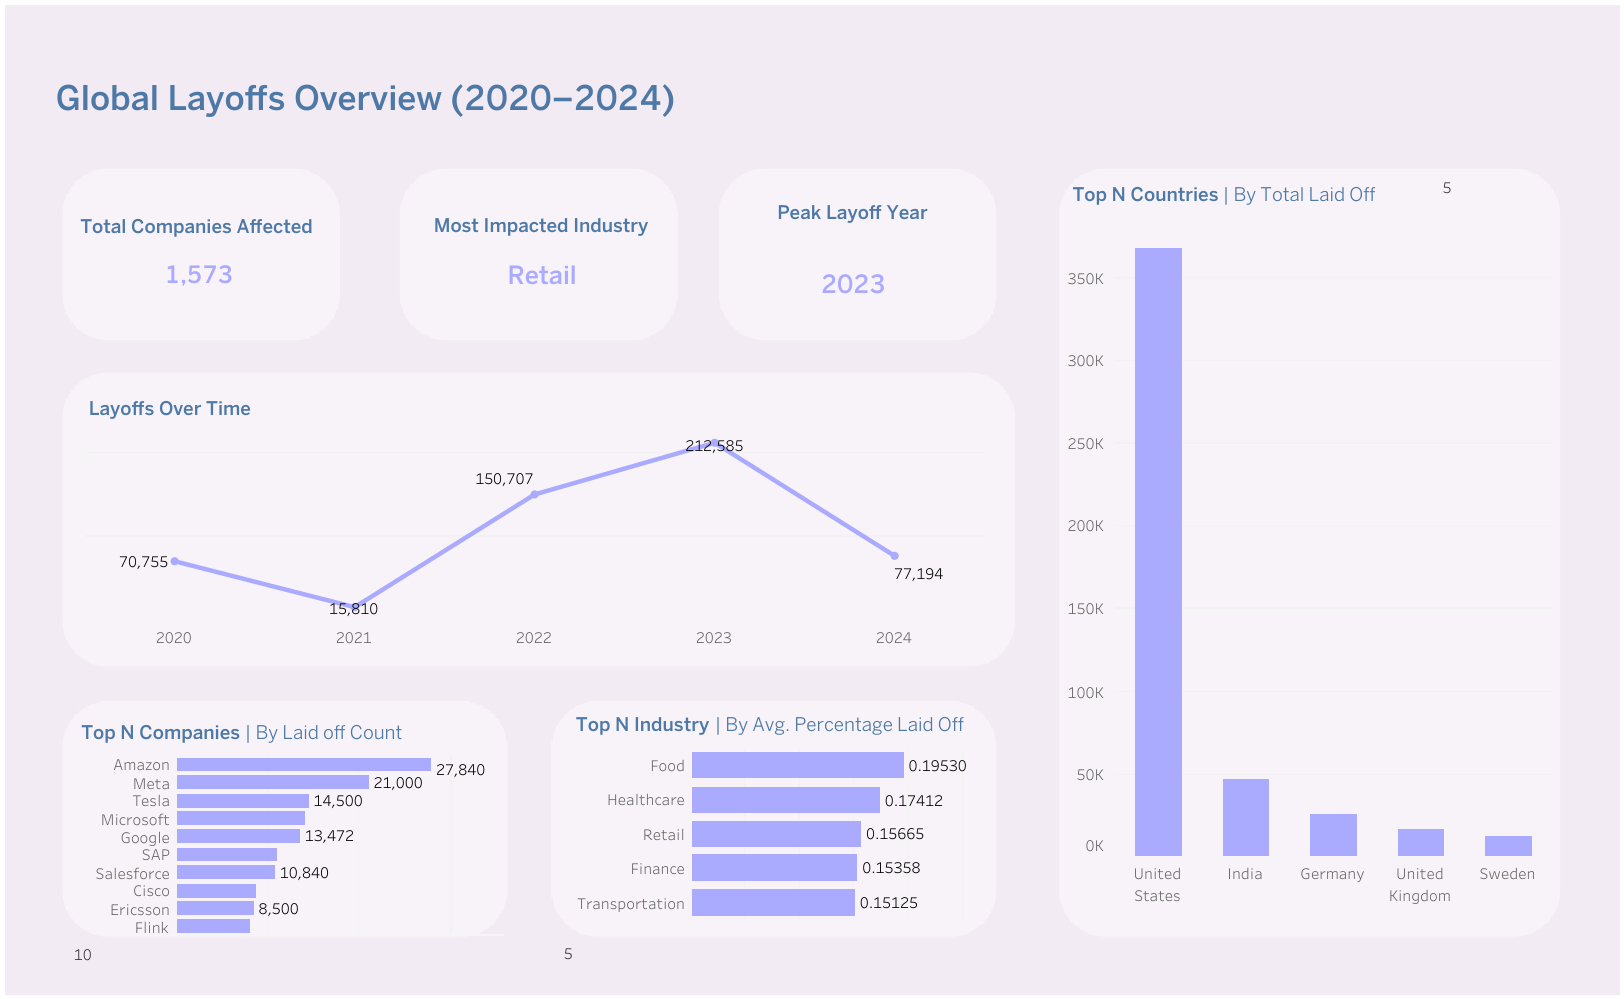

The page's visual inventory and layout, read from the dashboard file:
{"tool":"tableau","page":{"name":"Layoffs","canvas":[1300,800],"ordinal":0},"visuals":[{"type":"image","param":"Image/Untitled design (4).png","box":[0,0,1300,800]},{"type":"text","box":[42.2,37.3,676,82.7]},{"type":"worksheet","title":"Companies Affected","mark":"Text","box":[43,127,229,148]},{"type":"worksheet","title":"Countries","mark":"Bar","rows":["total_laid_off"],"cols":["country"],"box":[854,140,387,585]},{"type":"parameter","param":"[Parameters].[Parameter 3]","box":[1152,140,86,28]},{"type":"worksheet","title":"Peak Year","mark":"Automatic","box":[589,143,188,115]},{"type":"worksheet","title":"Top Industry Affected","mark":"Text","box":[340,145,188,115]},{"type":"worksheet","title":"Year","mark":"Line","rows":["total_laid_off"],"cols":["date"],"box":[67,311,720,207]},{"type":"worksheet","title":"Industry","mark":"Automatic","rows":["industry"],"cols":["percentage_laid_off"],"box":[453,564,333,171]},{"type":"worksheet","title":"Company vs Total Laid Off","mark":"Automatic","rows":["company"],"cols":["total_laid_off"],"box":[61,570,342,178]},{"type":"parameter","param":"[Parameters].[Parameter 2]","box":[449,753,113,28]},{"type":"parameter","param":"[Parameters].[Parameter 1]","box":[57,754,96,29]}]}

Visuals, with their boxes in screenshot pixels (x1, y1, x2, y2), scaled from the page's 1300x800 canvas onto the 1624x999 screenshot:
image: bbox=[0, 0, 1623, 998]
text: bbox=[53, 47, 897, 150]
"Companies Affected" worksheet (Text marks): bbox=[54, 159, 340, 343]
"Countries" worksheet (Bar marks): bbox=[1067, 175, 1550, 905]
parameter: bbox=[1439, 175, 1547, 210]
"Peak Year" worksheet: bbox=[736, 179, 971, 322]
"Top Industry Affected" worksheet (Text marks): bbox=[425, 181, 660, 325]
"Year" worksheet (Line marks): bbox=[84, 388, 983, 647]
"Industry" worksheet: bbox=[566, 704, 982, 918]
"Company vs Total Laid Off" worksheet: bbox=[76, 712, 503, 934]
parameter: bbox=[561, 940, 702, 975]
parameter: bbox=[71, 942, 191, 978]
